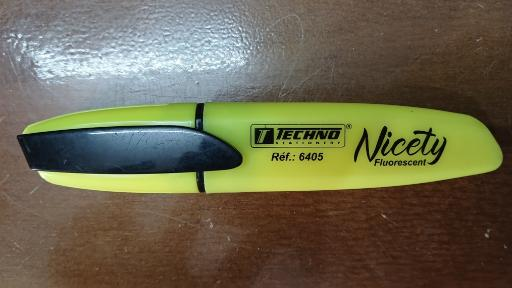Highlighter: (16, 101, 504, 193)
